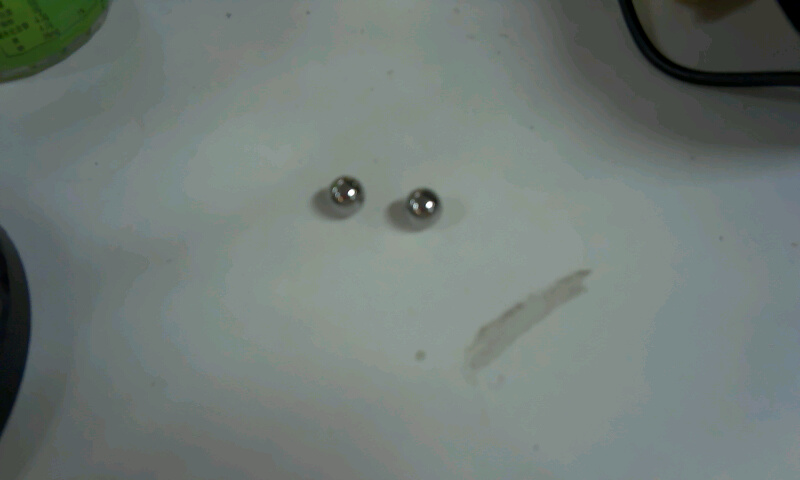steelball: (397, 182, 453, 236), (319, 169, 370, 225)
